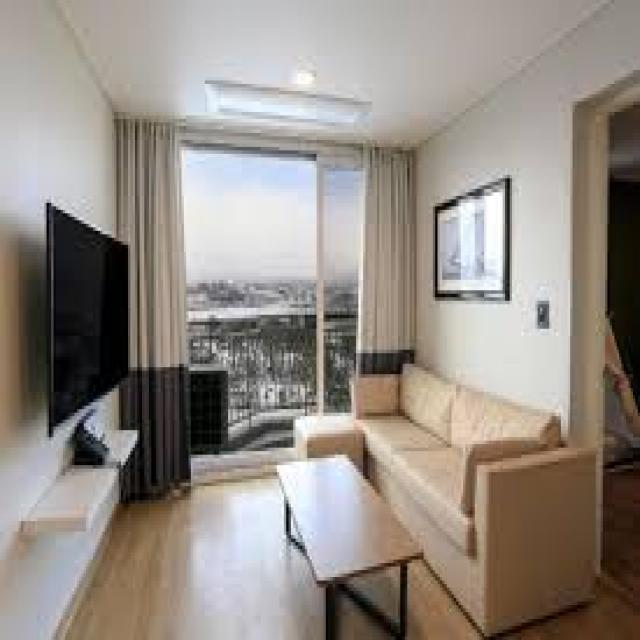Sofa: (346, 360, 600, 620)
Table: (270, 452, 426, 636)
tv: (45, 202, 132, 422)
window: (126, 121, 413, 351)
